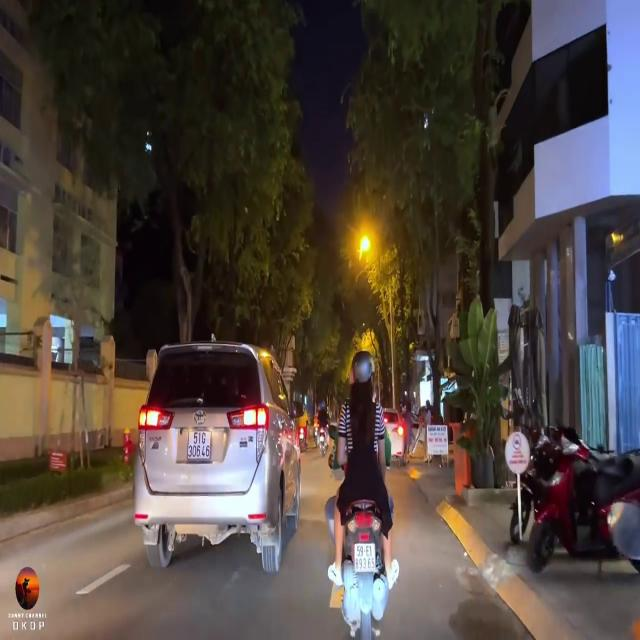bien_trang: (354, 538, 376, 570), (189, 429, 212, 458)
